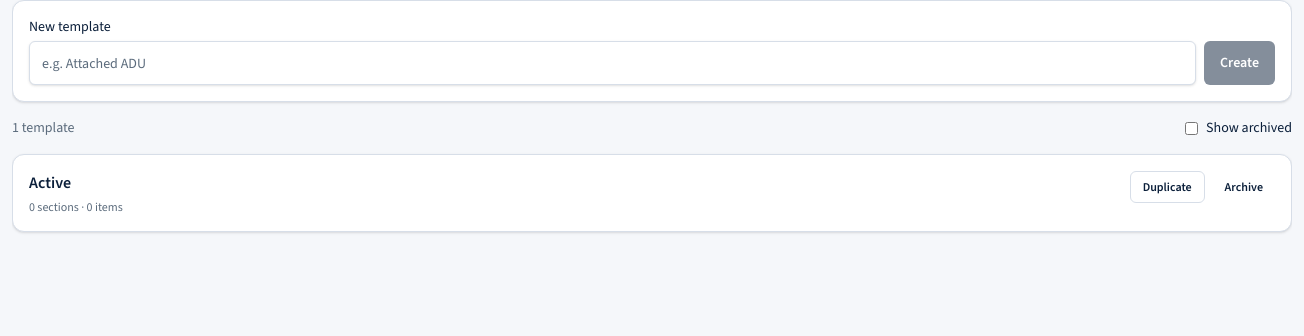
it: archived template delete UI › hides archived templates until Show archived is checked
Expected: the link "Active" is shown, [29,172,71,193]
Expected: the text "Parked" is not shown
Click the checkbox labelled "Show archived" at coordinates (1192, 128), box [1185,122,1198,134]
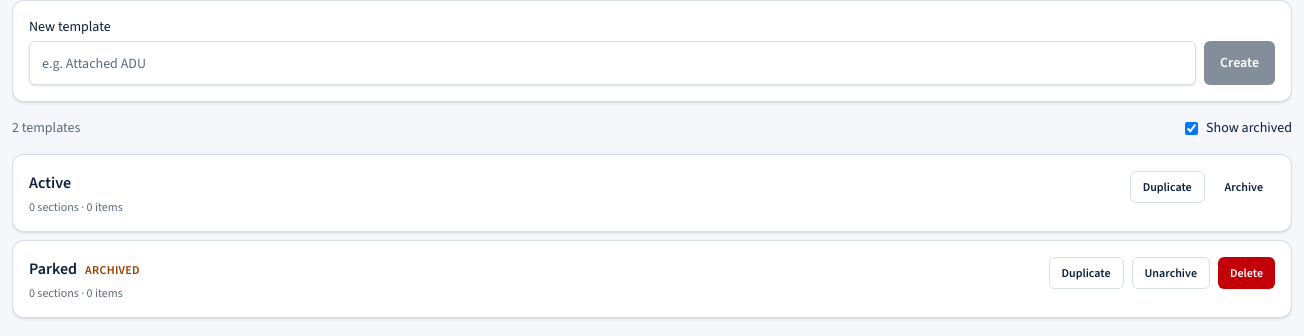
Expected: the link "Parked" is shown, [29,258,77,279]
Expected: the text "Archived" is shown, [85,262,140,278]
Expected: the button "Delete" is shown, [1218,257,1275,289]
